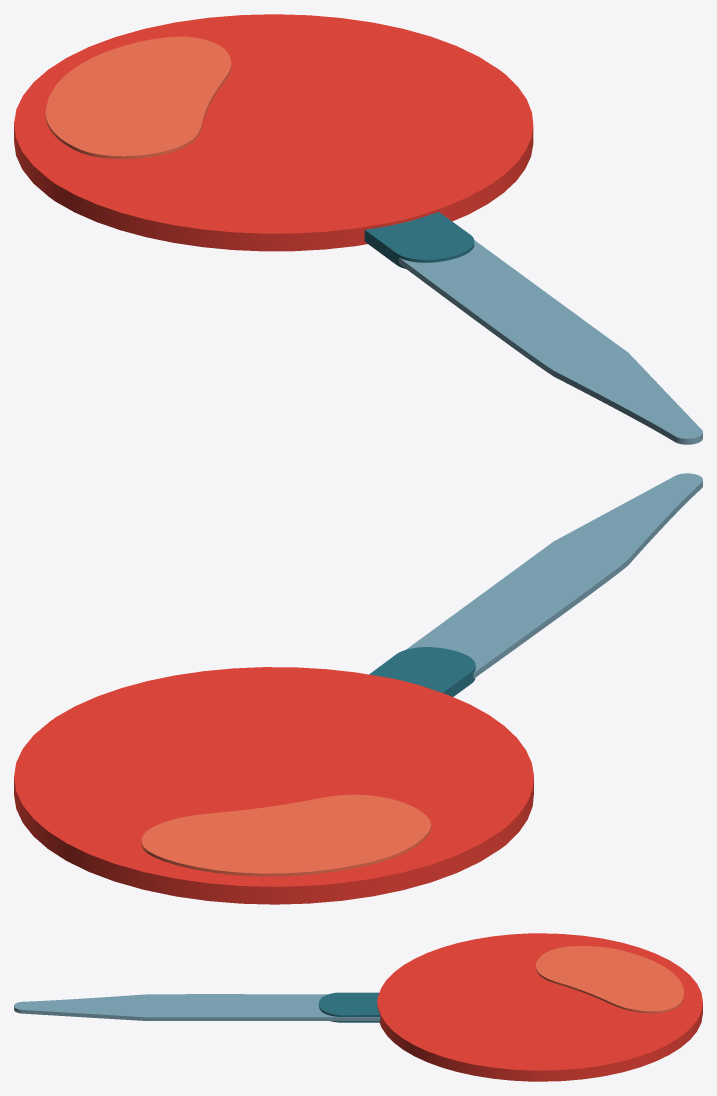
File: emoji_u1f4cd.glb
The picture shows the model from 3 angles, top to bottom: view 1: azimuth 30°, elevation 25°; view 2: azimuth 150°, elevation 25°; view 3: azimuth 270°, elevation 25°; orthographic projection. The views are drawn at different scales.
Visible parts, largest first — view 1: emoji_u1f4cd; view 2: emoji_u1f4cd; view 3: emoji_u1f4cd.
Part boxes in pixels (<box>): emoji_u1f4cd: <box>14,14,702,444</box>; emoji_u1f4cd: <box>14,473,702,904</box>; emoji_u1f4cd: <box>14,933,702,1081</box>.
Size of the model in its own units: 0.0159 by 0.0008 by 0.0338.
